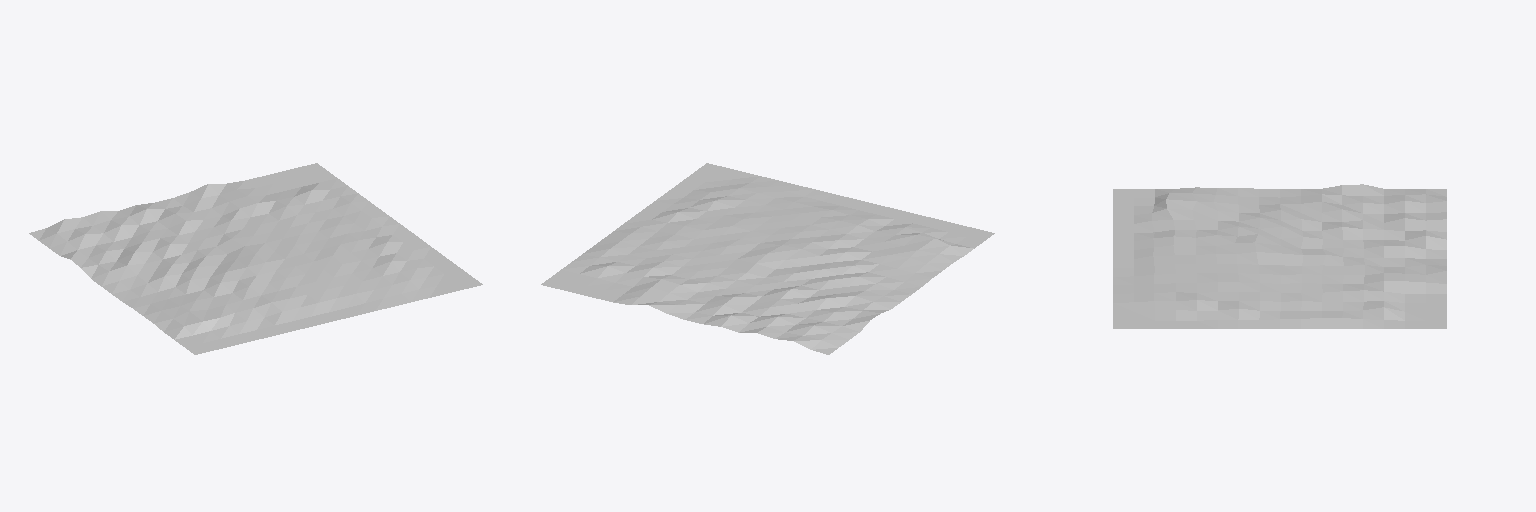
The model's file is redplanet.obj.
The picture shows the model from 3 angles: view 1: azimuth 30°, elevation 25°; view 2: azimuth 150°, elevation 25°; view 3: azimuth 270°, elevation 25°; orthographic projection.
Parts seen in each view (by area): view 1: Plane; view 2: Plane; view 3: Plane.
Boxes of the visible parts, x1,y1,x2,y2 form: Plane: [29, 163, 482, 354]; Plane: [541, 163, 994, 354]; Plane: [1113, 184, 1446, 328].
Bounding box in the file's own units: 60.02 × 1.23 × 60.